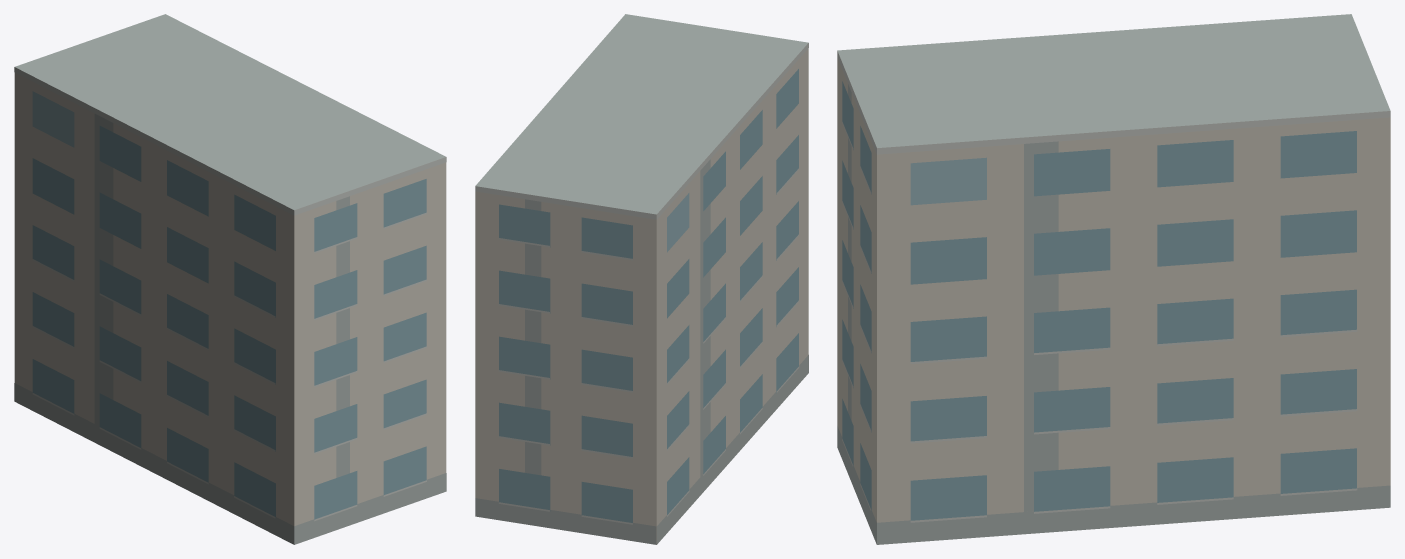
File: residential-4c7eef49-e261-4a69-b71f-565c3149ec77.glb
3 views of the same model, side by side, from view 1: azimuth 30°, elevation 25°; view 2: azimuth 150°, elevation 25°; view 3: azimuth 270°, elevation 25° (orthographic). The views are drawn at different scales.
Parts seen in each view (by area): view 1: residential-4c7eef49-e261-4a69-b71f-565c3149ec77.tmp; view 2: residential-4c7eef49-e261-4a69-b71f-565c3149ec77.tmp; view 3: residential-4c7eef49-e261-4a69-b71f-565c3149ec77.tmp.
Part boxes in pixels (left/top/right/bottom): residential-4c7eef49-e261-4a69-b71f-565c3149ec77.tmp: left=14, top=14, right=446, bottom=544; residential-4c7eef49-e261-4a69-b71f-565c3149ec77.tmp: left=475, top=14, right=808, bottom=544; residential-4c7eef49-e261-4a69-b71f-565c3149ec77.tmp: left=837, top=14, right=1390, bottom=544.
Size of the model in its own units: 10.89 by 15 by 18.97.
